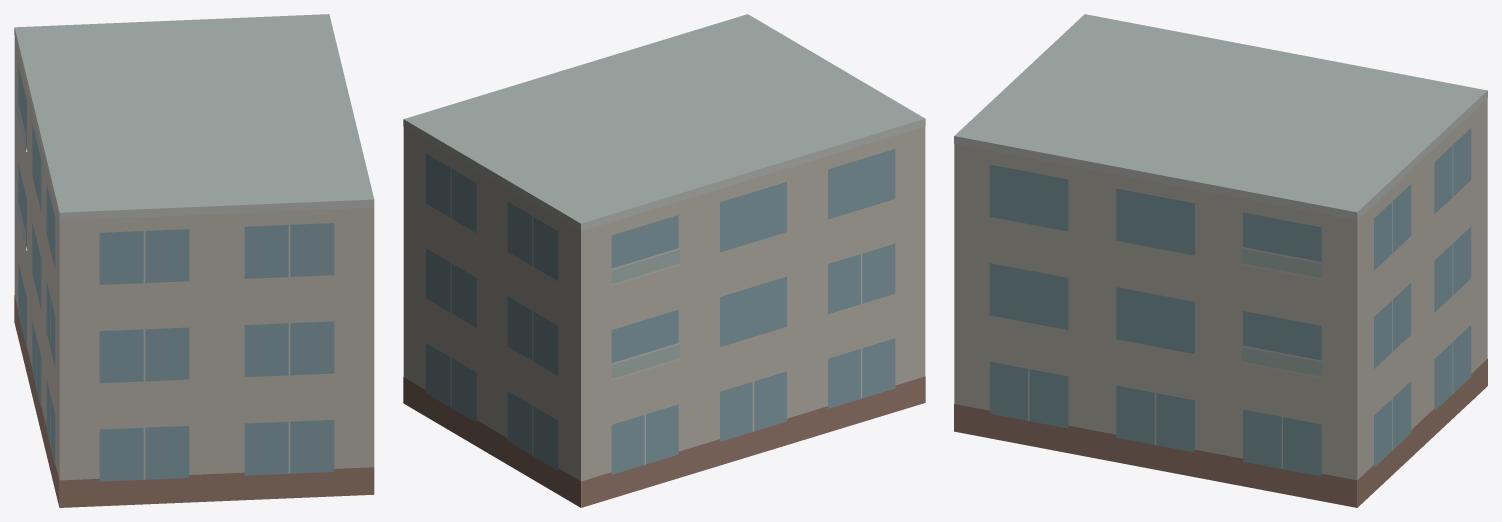
File: survey-upis-33046281.glb
3 renders of one model, left to right at view 1: azimuth 30°, elevation 25°; view 2: azimuth 150°, elevation 25°; view 3: azimuth 270°, elevation 25°, orthographic. The views are drawn at different scales.
Visible parts, largest first — view 1: survey-upis-33046281.tmp; view 2: survey-upis-33046281.tmp; view 3: survey-upis-33046281.tmp.
Part boxes in pixels (x1,y1,x2,y2): survey-upis-33046281.tmp: (14,14,374,507); survey-upis-33046281.tmp: (403,14,925,507); survey-upis-33046281.tmp: (954,14,1487,507).
Size of the model in its own units: 13.18 by 9.15 by 14.98.
